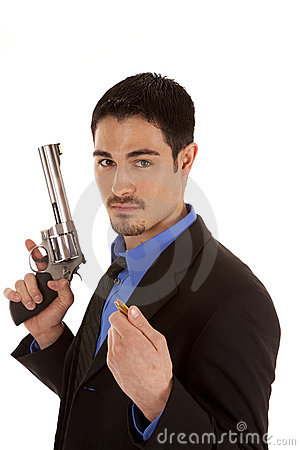Revolver: (3, 110, 92, 329)
